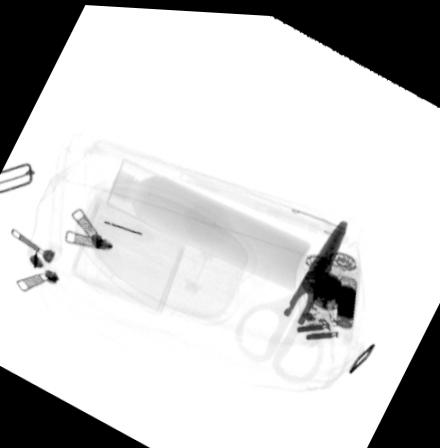Scissors: (231, 213, 348, 379)
